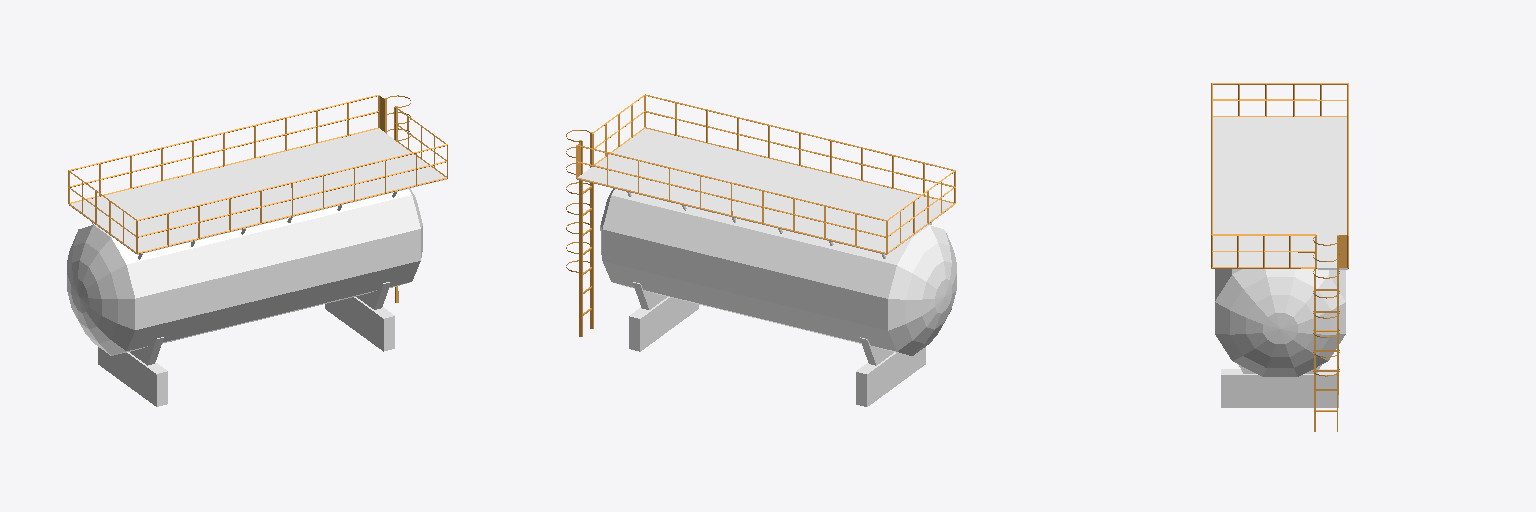
File: 0405woshiguan02.obj
3 renders of one model, left to right at view 1: azimuth 30°, elevation 25°; view 2: azimuth 150°, elevation 25°; view 3: azimuth 270°, elevation 25°, orthographic.
Visible parts, largest first — view 1: EQUIP_MTBE_V_103, Object001; view 2: EQUIP_MTBE_V_103, Object001; view 3: EQUIP_MTBE_V_103, Object001.
Part boxes in pixels (x1,y1,x2,y2): EQUIP_MTBE_V_103: (67,95,446,406); Object001: (68,95,447,253); EQUIP_MTBE_V_103: (566,128,956,406); Object001: (576,94,955,254); EQUIP_MTBE_V_103: (1213,117,1347,431); Object001: (1211,83,1348,268).
Bounding box in the file's own units: 9.28 × 4.93 × 3.15.